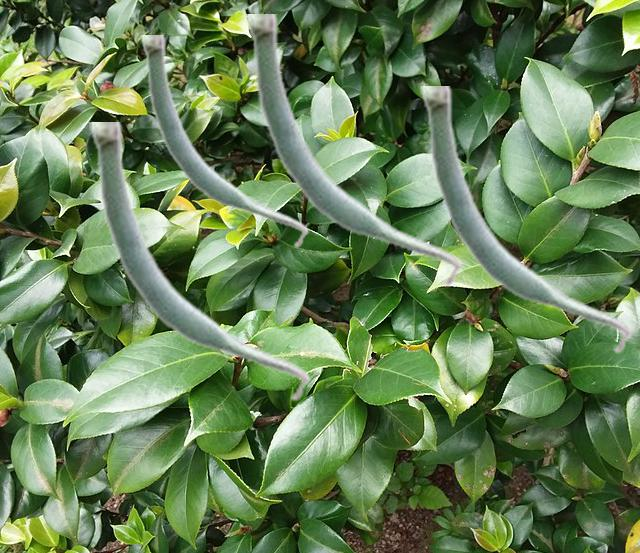french_bean: (89, 122, 310, 402), (245, 14, 462, 288), (420, 86, 632, 354), (140, 35, 308, 248)
